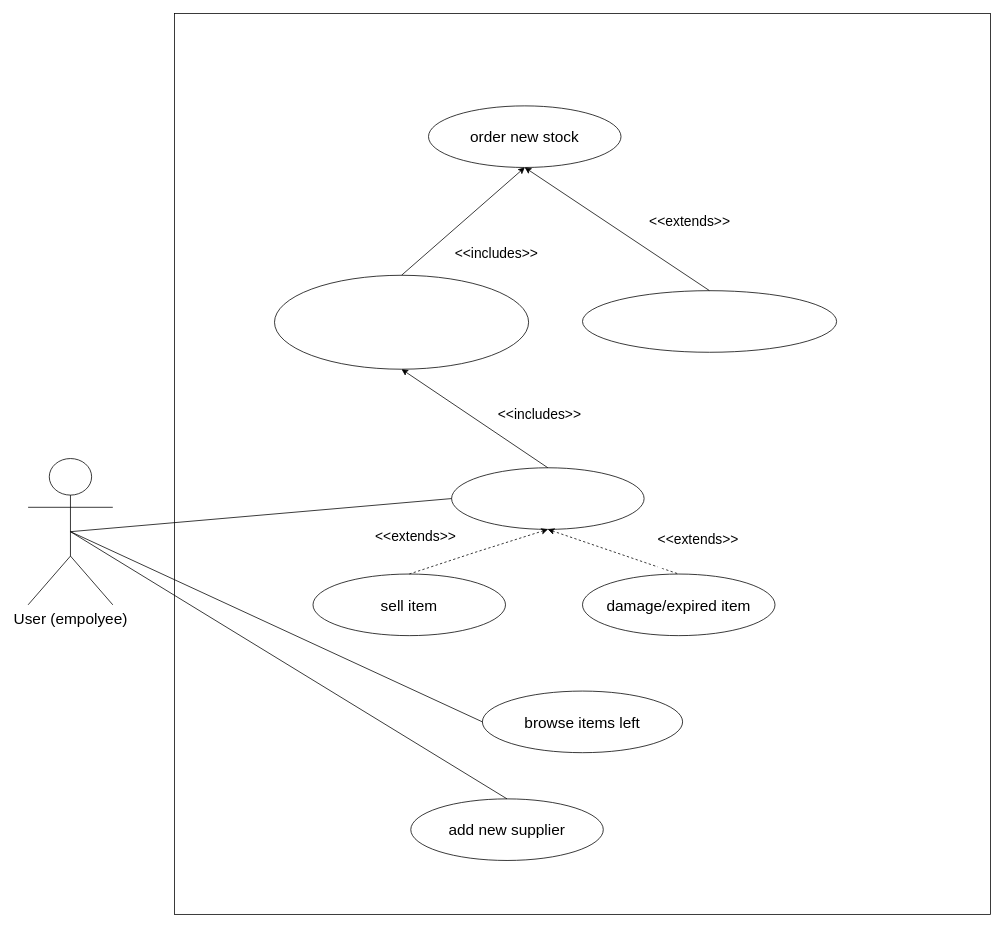
Image size: 1004x928. Some labels were removed from this diagram. The centre of each missing label's shape, as x and y in pixels:
"Alert item is about running out of stock" belongs at pixel 401 322.
"Monthly times order process" belongs at pixel 709 321.
"update item state" belongs at pixel 547 498.
